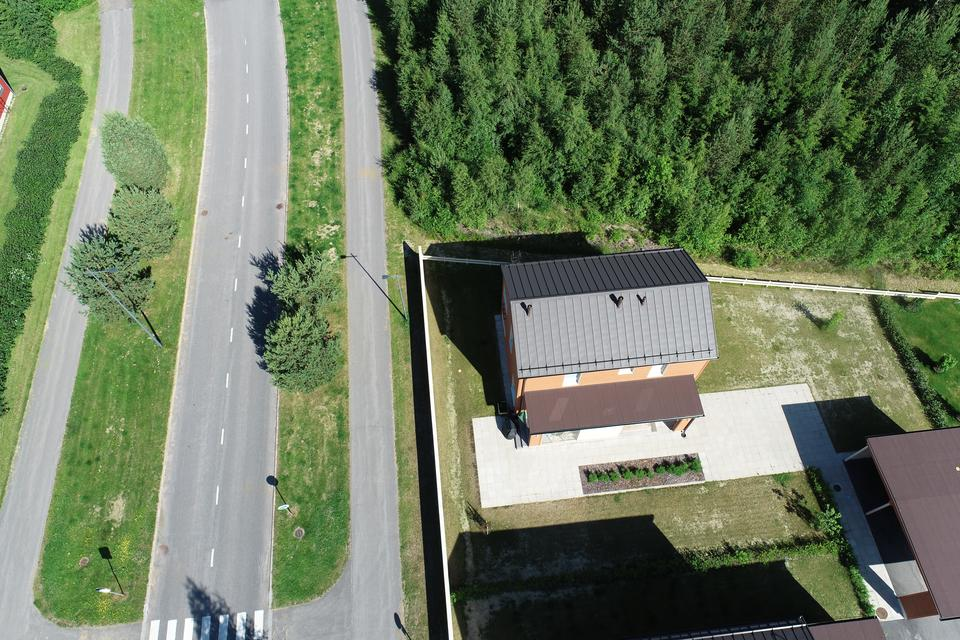intersection: (0, 567, 421, 640)
